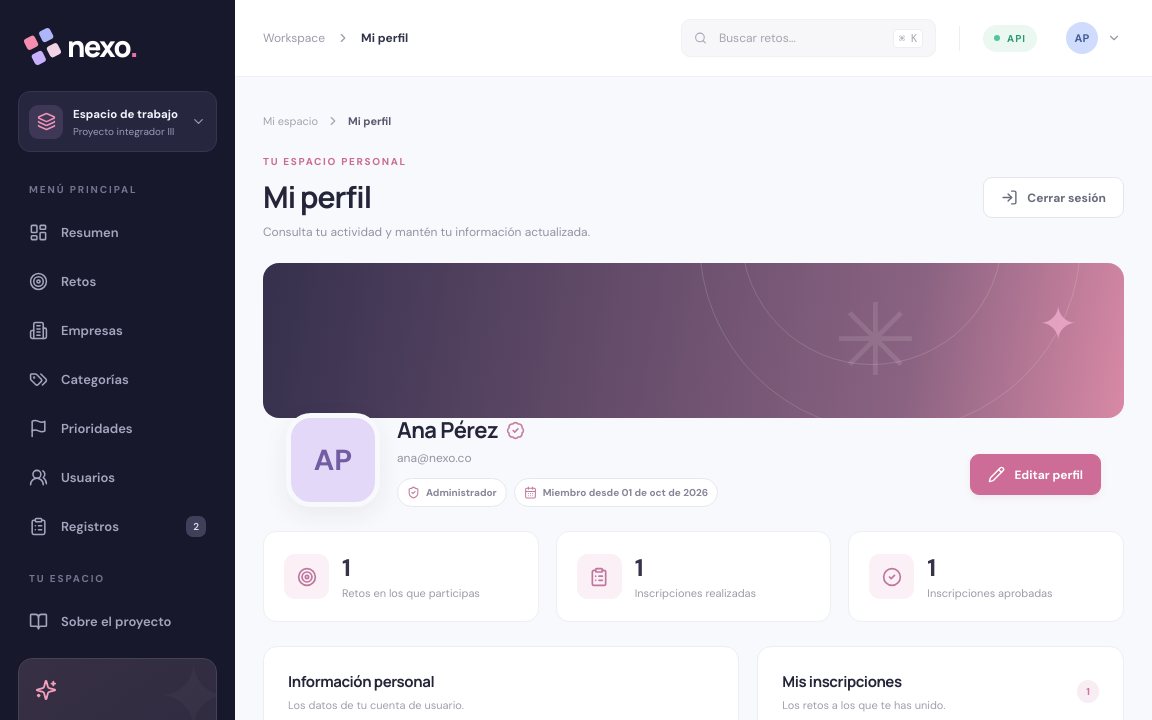
it: PlatformApp · autenticación › actualiza el perfil del usuario
The image size is (1152, 720).
expect the heading "Mi perfil" is shown: met, box [263,176,371,217]
Click the button "Editar perfil" at (1036, 474), box [970,454,1101,495]
(page scrolled)
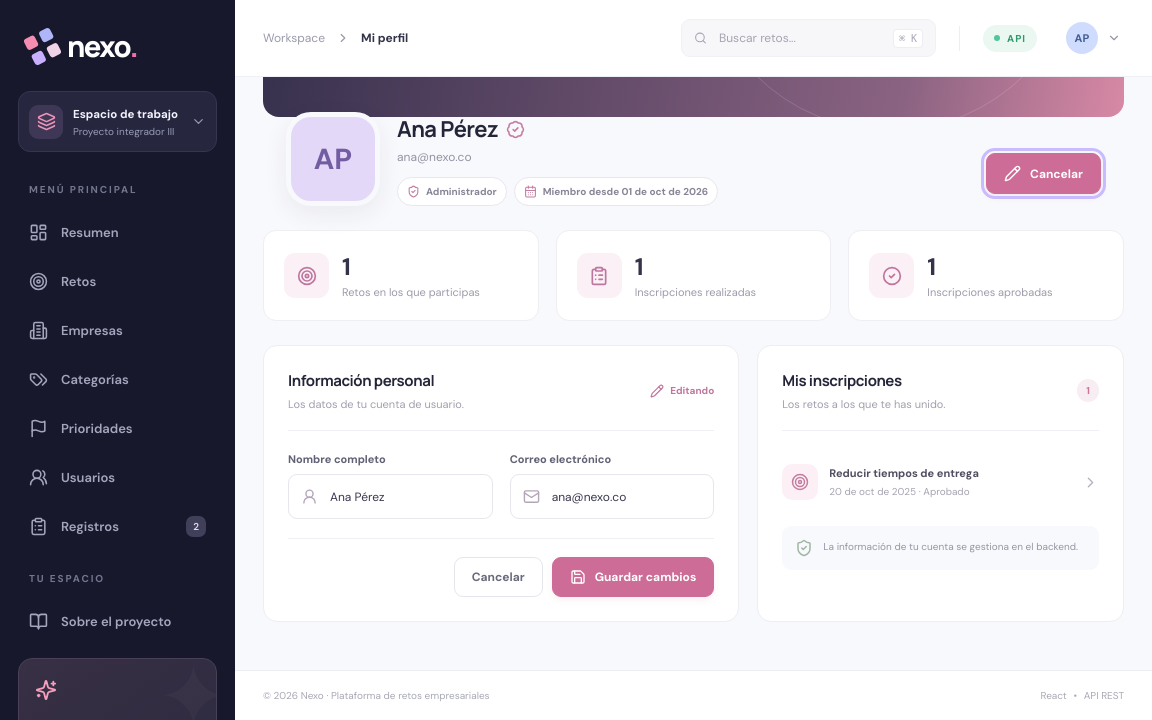
Replace the text in the field labelled "Nombre completo" with "Ana María Pérez" at (404, 497), box [328,475,480,518]
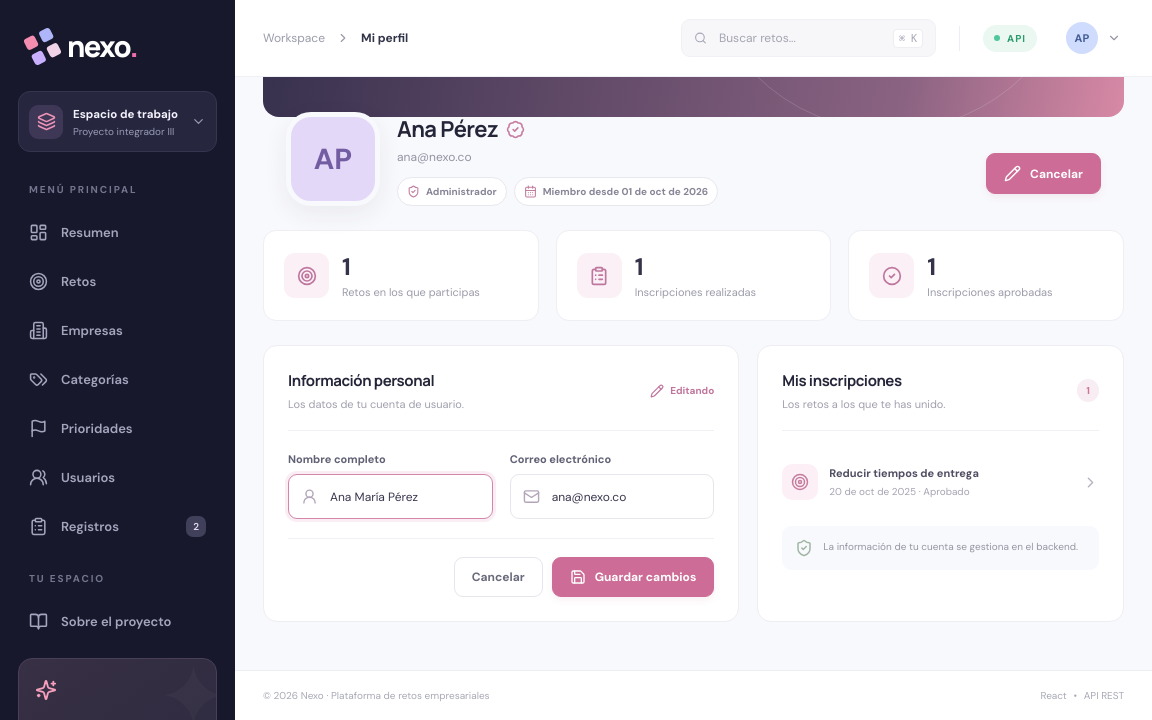
Click the button "Guardar cambios" at (633, 577), box [552,557,714,597]
(page scrolled)
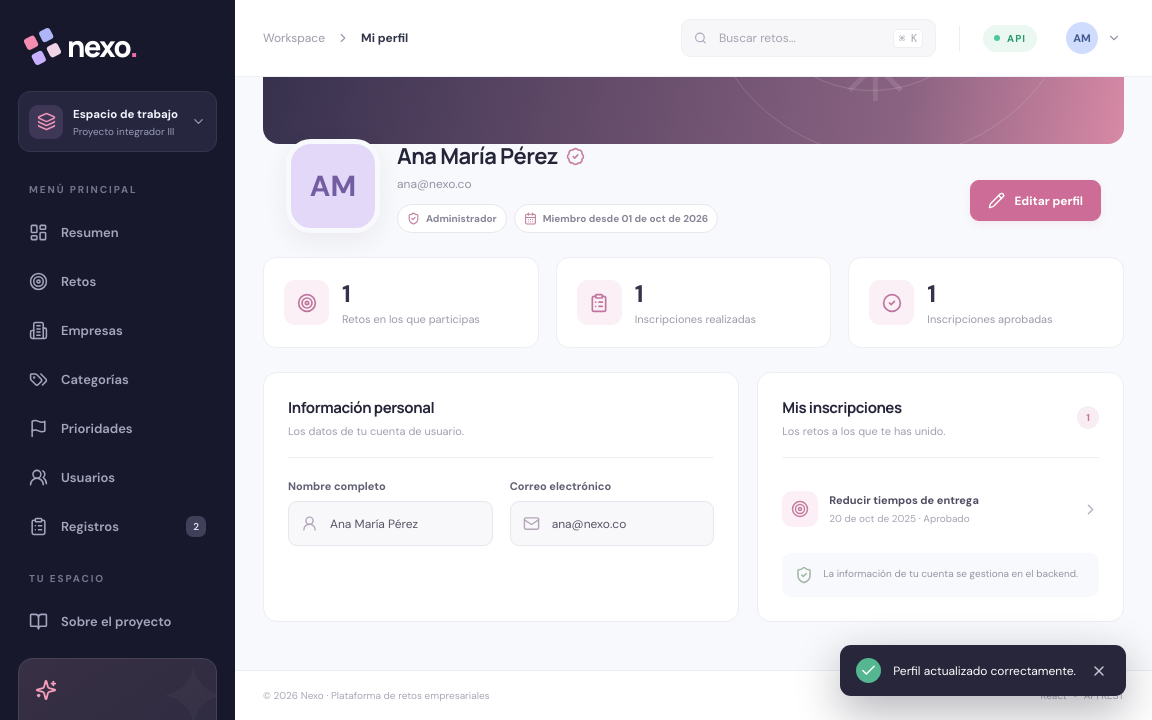
expect the message reads "Perfil actualizado correctamente.": met, box [893,662,1076,678]
expect the heading "Ana María Pérez" is shown: met, box [397,141,585,171]
